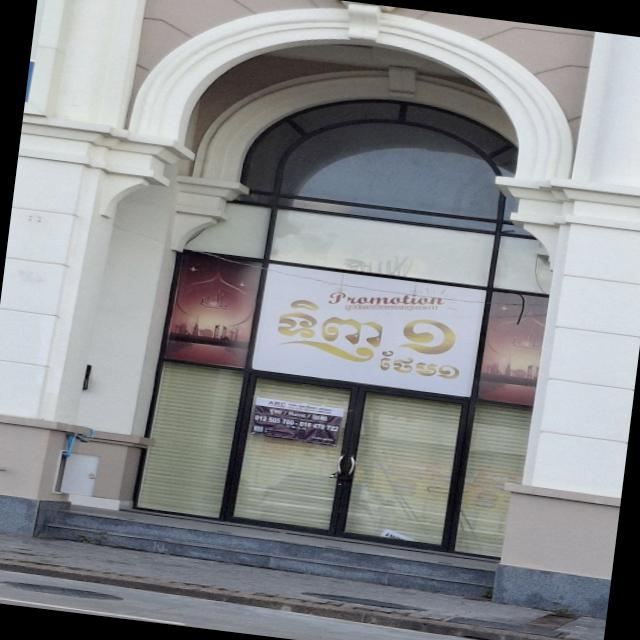Yolov11kh: (266, 286, 507, 371), (370, 344, 473, 385)
